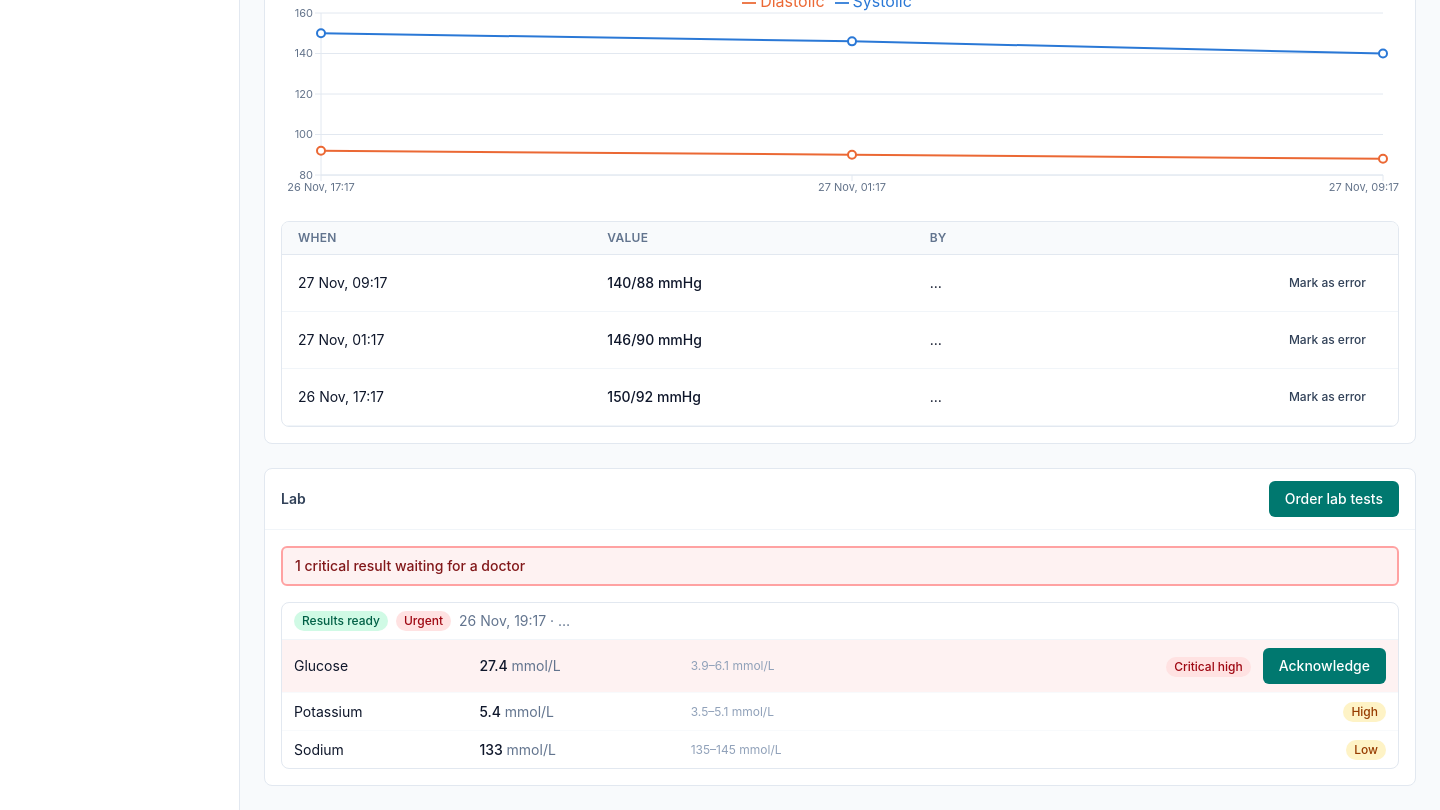
Test case: doctor: lab › acknowledges a critical result
This screenshot has width=1440, height=810.
(page scrolled)
Expected: the text "1 critical result waiting for a doctor" is shown, [281,546,1399,586]
Expected: the text "Critical high" is shown, [1166,657,1251,677]
Click the button "Acknowledge". click: [1324, 666]
box: [1263,648,1386,684]
(page scrolled)
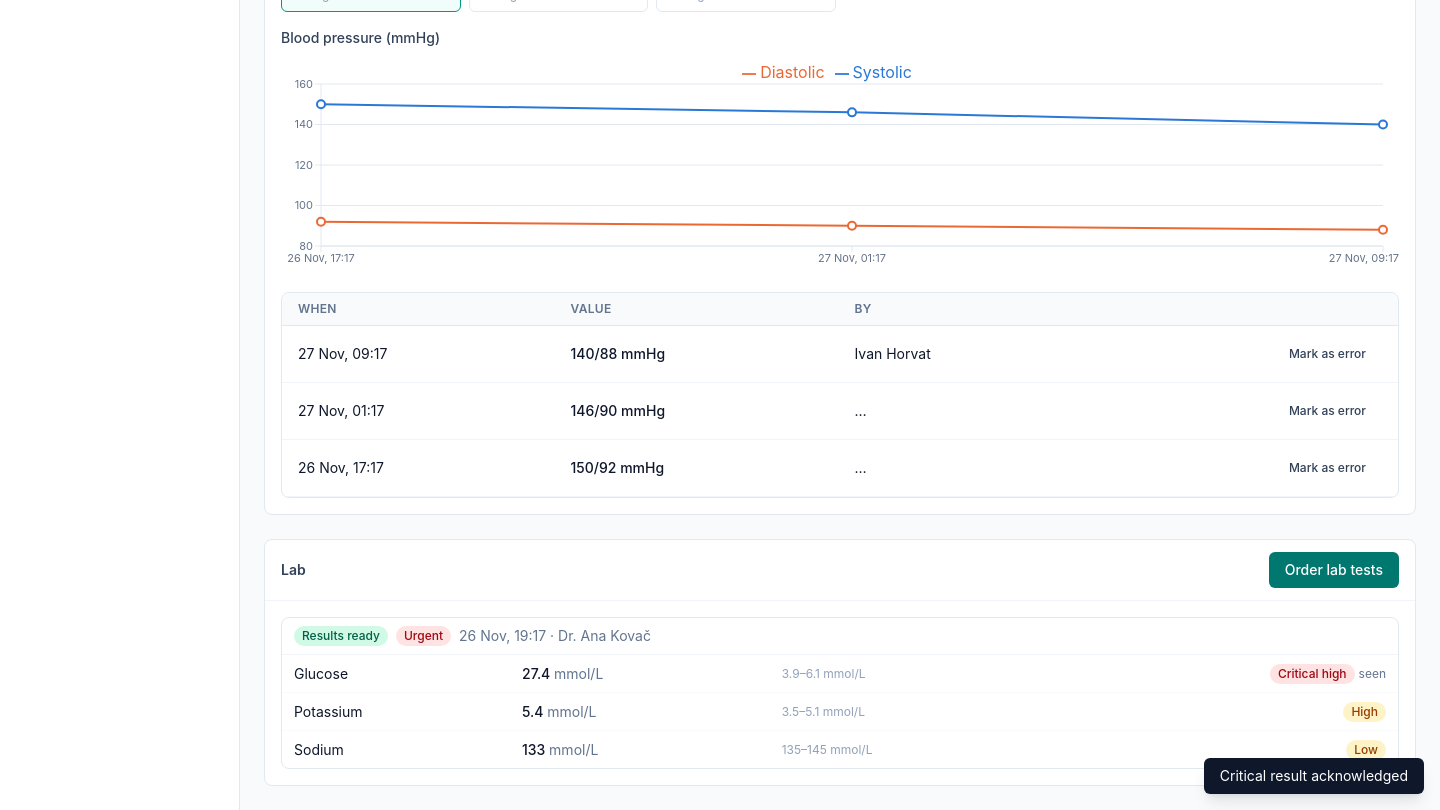
Expected: the text "Critical result acknowledged" is shown, [1204,758,1424,794]
Expected: the text "critical result waiting" is gone
Expected: the text "seen" is shown, [1359,666,1386,681]
